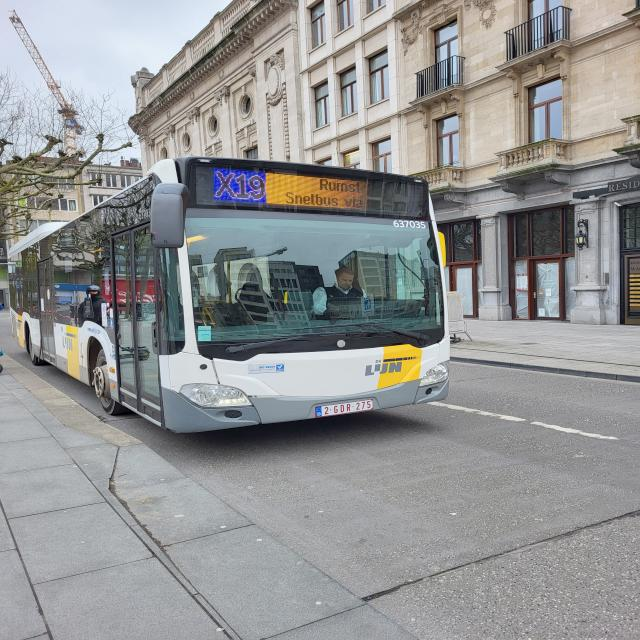bus-number: (214, 169, 268, 203)
